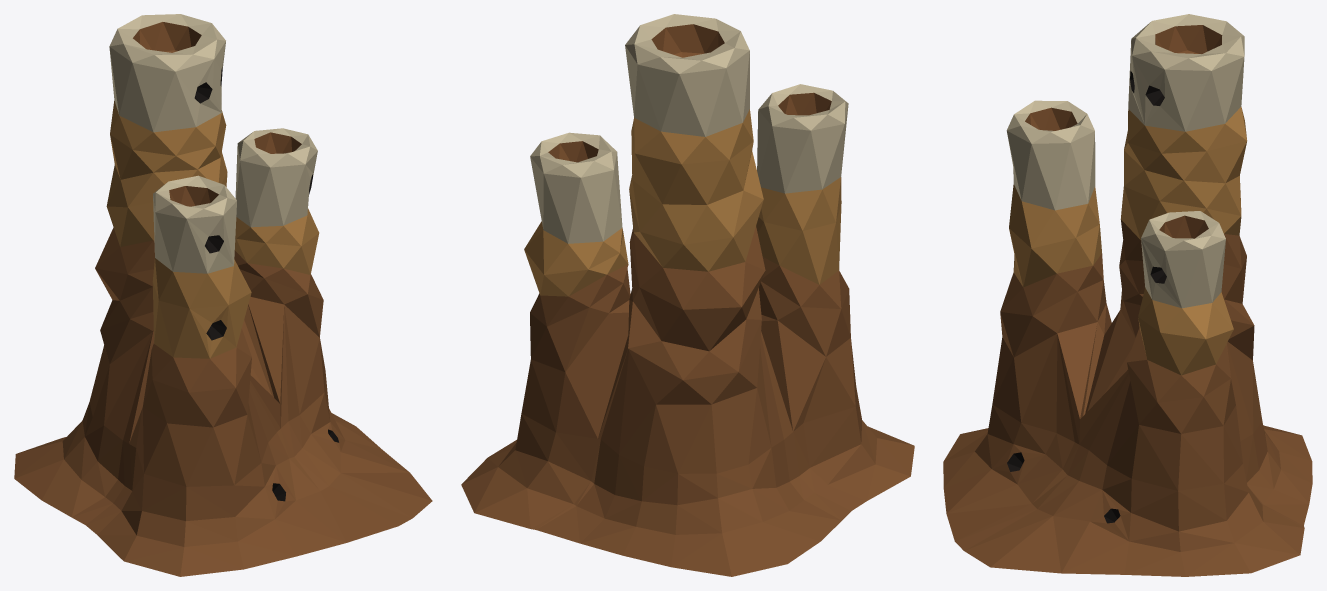
File: termite-mound-9bc94b.glb
The picture shows the model from 3 angles, left to right: view 1: azimuth 30°, elevation 25°; view 2: azimuth 150°, elevation 25°; view 3: azimuth 270°, elevation 25°; orthographic projection. The views are drawn at different scales.
Parts seen in each view (by area): view 1: mound; view 2: mound; view 3: mound.
Boxes of the visible parts, x1,y1,x2,y2 form: mound: [14, 14, 432, 576]; mound: [461, 14, 914, 576]; mound: [943, 14, 1312, 576].
Size of the model in its own units: 1.5 by 2.01 by 1.5.
